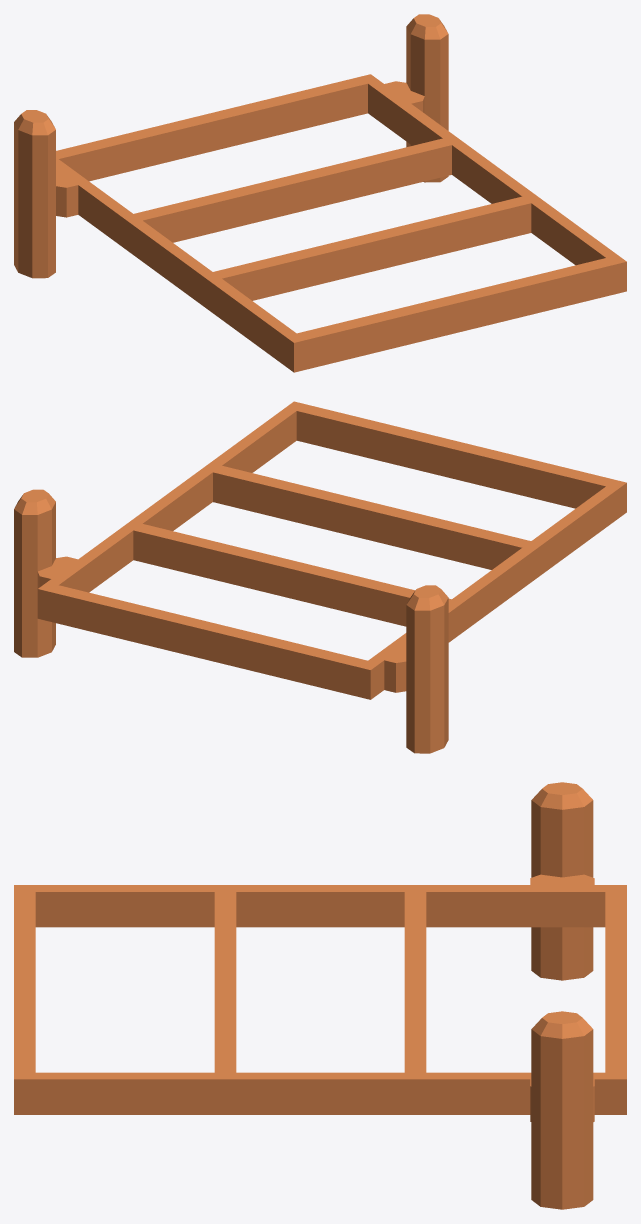
File: _andeja.fbx
The picture shows the model from 3 angles, top to bottom: view 1: azimuth 30°, elevation 25°; view 2: azimuth 150°, elevation 25°; view 3: azimuth 270°, elevation 25°; orthographic projection. The views are drawn at different scales.
Parts seen in each view (by area): view 1: bandeja; view 2: bandeja; view 3: bandeja.
Part boxes in pixels (box(x1,y1,x2,y2)): bandeja: box(14, 14, 626, 372); bandeja: box(14, 401, 626, 753); bandeja: box(14, 782, 626, 1209).
Size of the model in its own units: 331 by 113 by 344.
